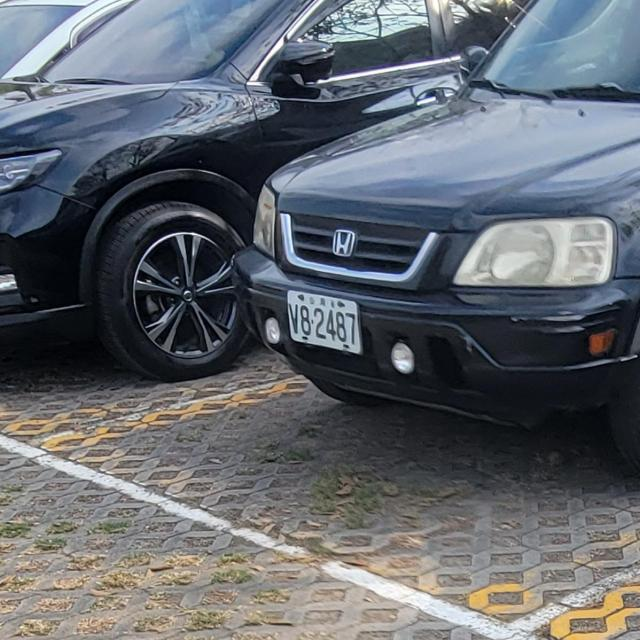W: (284, 282, 364, 362)
